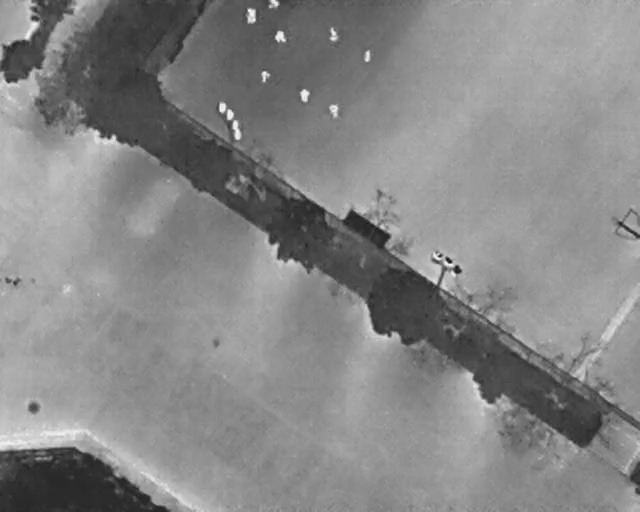Person: (273, 28, 288, 44), (245, 7, 257, 25), (298, 88, 311, 104), (259, 68, 271, 84), (328, 104, 339, 120), (329, 26, 340, 42), (362, 48, 372, 63), (268, 0, 281, 9)
